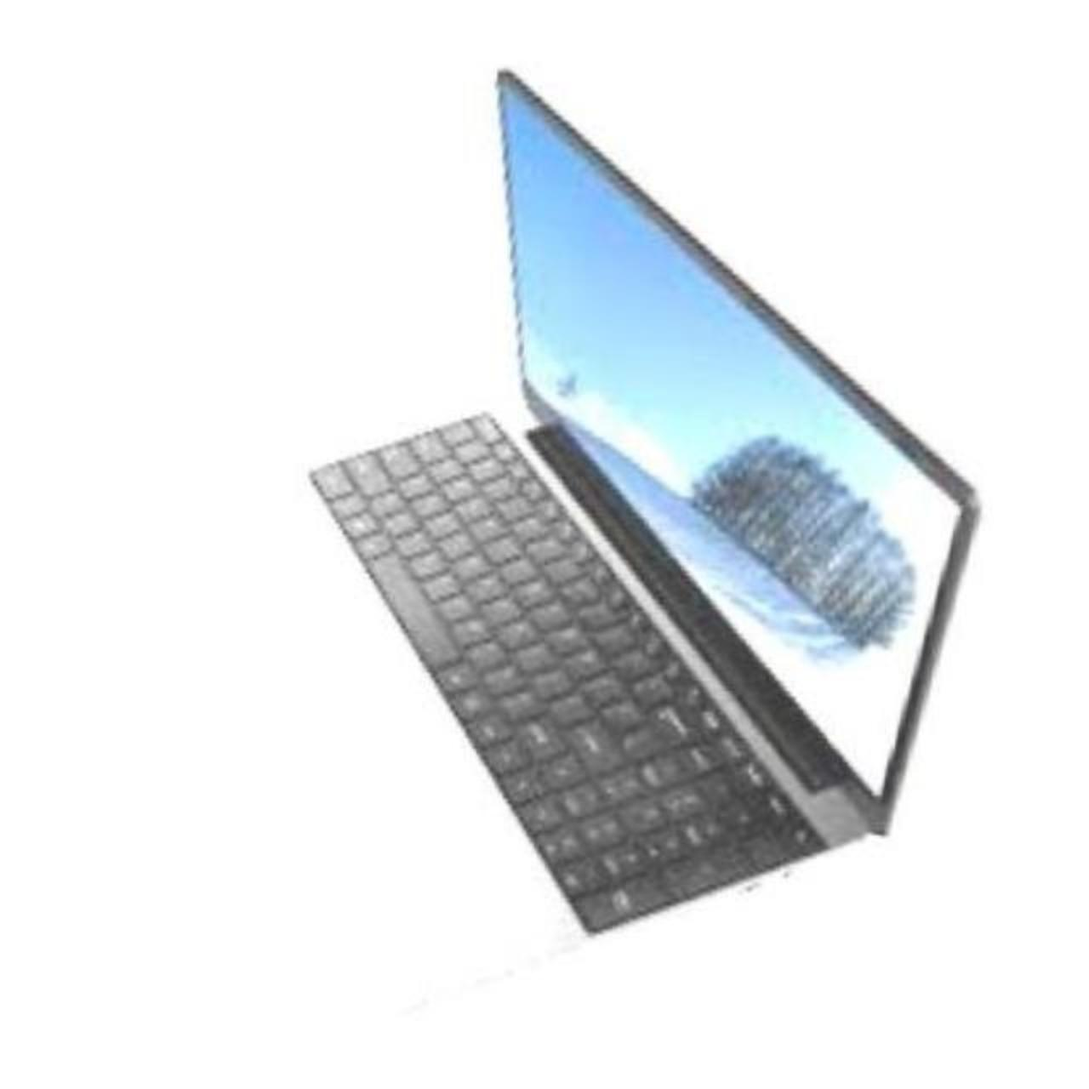laptop: (85, 31, 1021, 1088)
